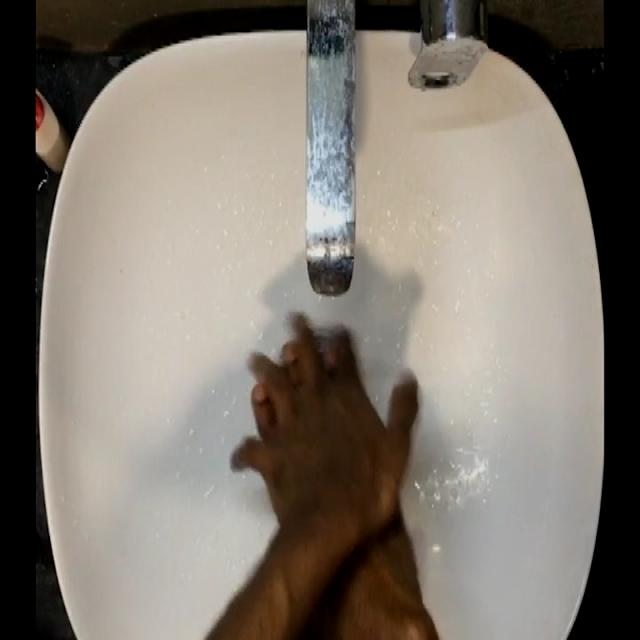step_2: (218, 300, 421, 532)
